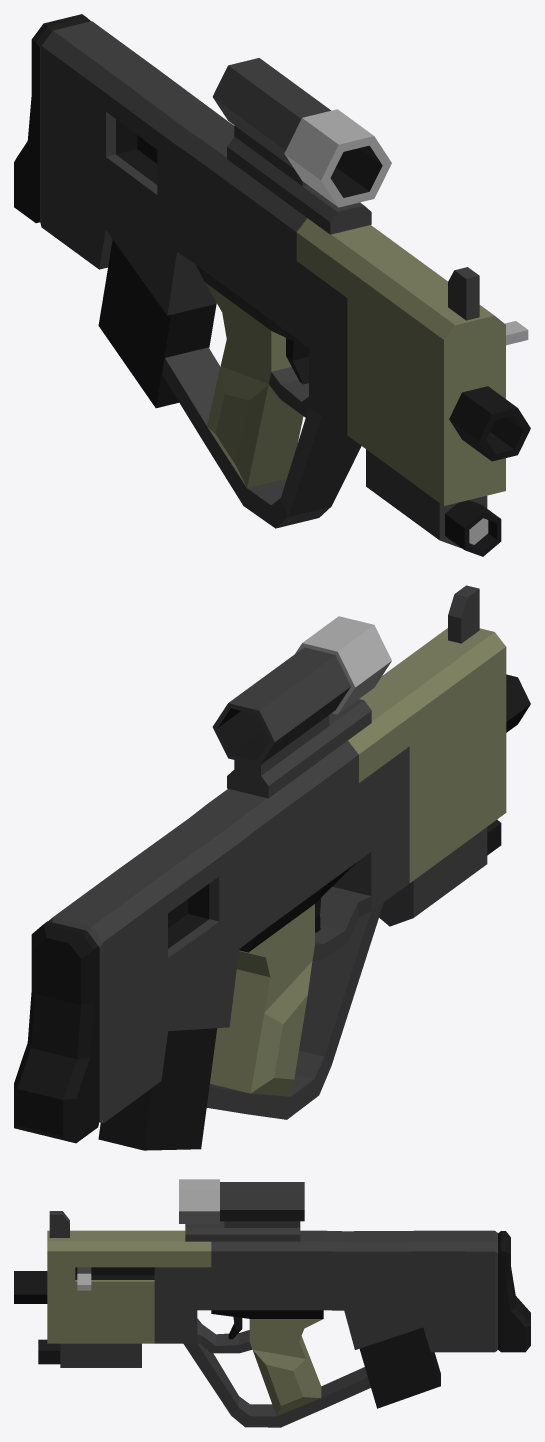
File: Rifle.fbx
3 renders of one model, top to bottom at view 1: azimuth 30°, elevation 25°; view 2: azimuth 150°, elevation 25°; view 3: azimuth 270°, elevation 25°, orthographic. The views are drawn at different scales.
Visible parts, largest first — view 1: Rifle Body, Rifle Mag, Rifle Trigger; view 2: Rifle Body, Rifle Mag; view 3: Rifle Body, Rifle Mag, Rifle Handle.
Part boxes in pixels (x1,y1,x2,y2): Rifle Body: (14, 14, 530, 556); Rifle Mag: (98, 239, 216, 408); Rifle Trigger: (286, 338, 308, 384); Rifle Body: (14, 585, 530, 1143); Rifle Mag: (98, 1028, 217, 1150); Rifle Body: (14, 1179, 530, 1427); Rifle Mag: (359, 1327, 440, 1408); Rifle Handle: (77, 1267, 91, 1290).
Size of the model in its own units: 7.93 by 27.92 by 55.06.
